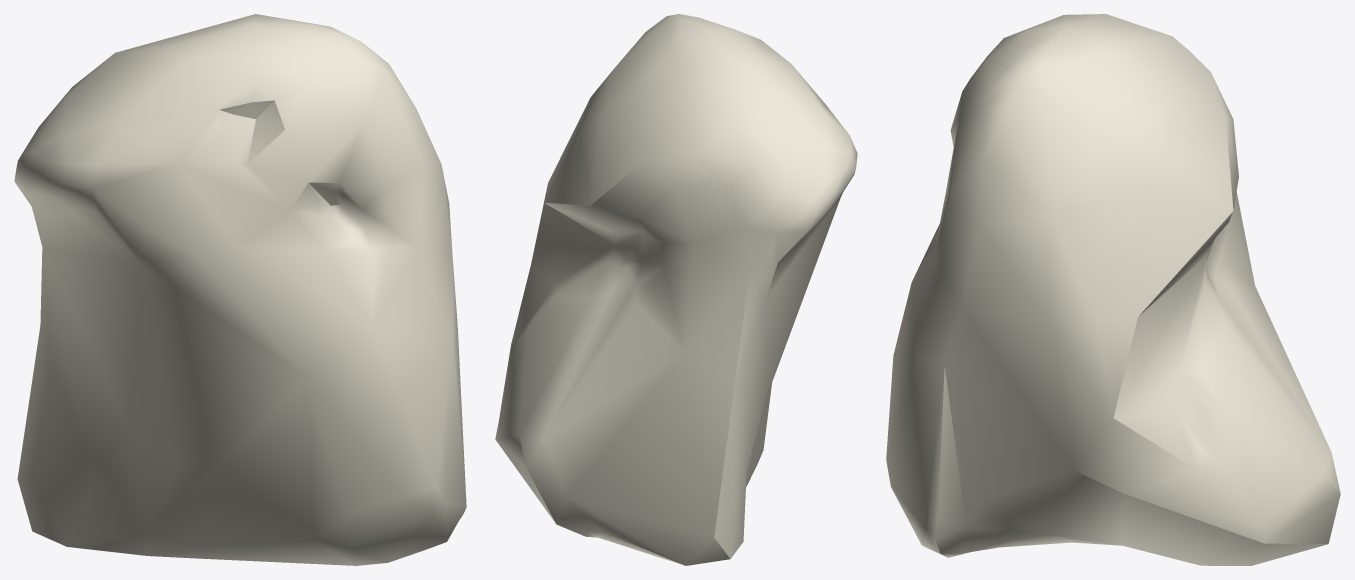
The model's file is fma24447_fj6368.glb.
The picture shows the model from 3 angles, left to right: view 1: azimuth 30°, elevation 25°; view 2: azimuth 150°, elevation 25°; view 3: azimuth 270°, elevation 25°; orthographic projection. The views are drawn at different scales.
Parts seen in each view (by area): view 1: FMA24447_FJ6368; view 2: FMA24447_FJ6368; view 3: FMA24447_FJ6368.
Part boxes in pixels (bbox=[...]): FMA24447_FJ6368: bbox=[14, 14, 466, 565]; FMA24447_FJ6368: bbox=[495, 14, 857, 565]; FMA24447_FJ6368: bbox=[886, 14, 1340, 565].
Size of the model in its own units: 0.0161 by 0.0224 by 0.0172.
